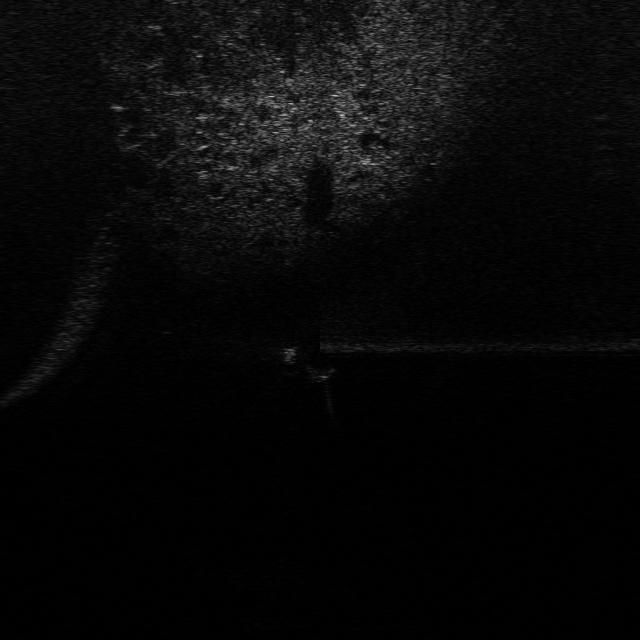cube: (304, 363, 338, 382)
cylinder: (277, 345, 298, 368)
